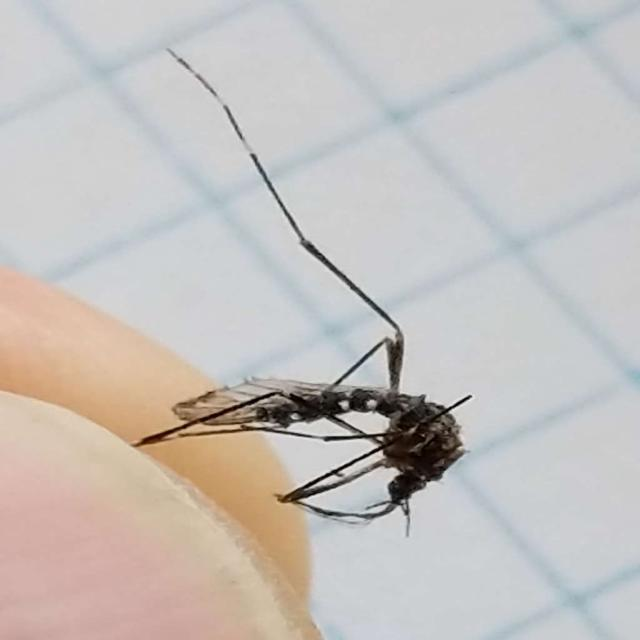albopictus: (116, 51, 516, 544)
